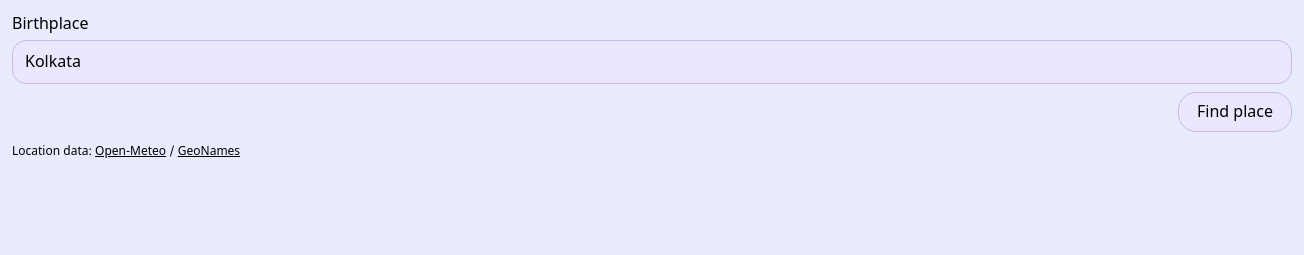
Test case: requires selection before passing coordinates and ignores an invalid selection index
Click the button "Find place" at (1235,112), box [1178,92,1292,132]
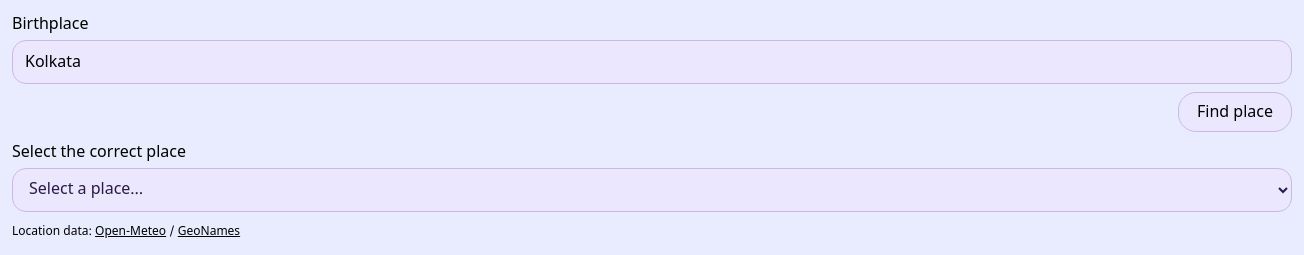
Select "Invalid record" in the dropdown at (652,190), box [12,168,1292,212]
Select "Kolkata" in the dropdown at (652,190), box [12,168,1292,212]
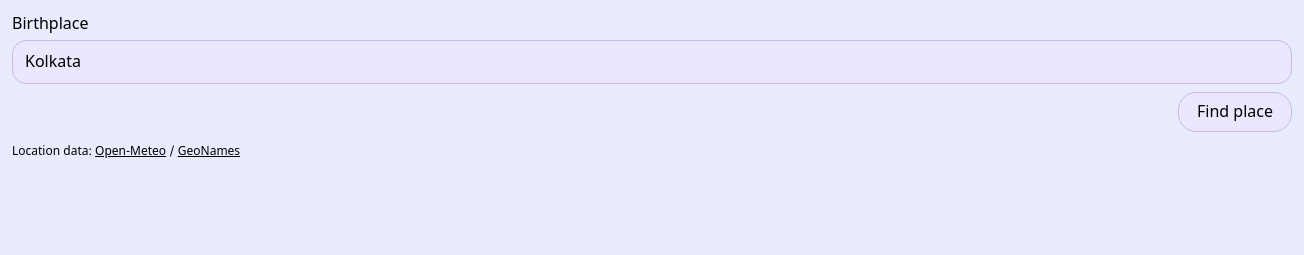
Now the dropdown is gone
